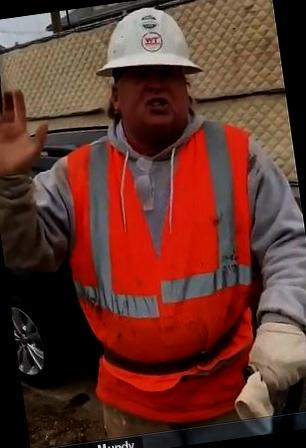helmet: (84, 0, 208, 93)
person: (19, 0, 306, 439)
